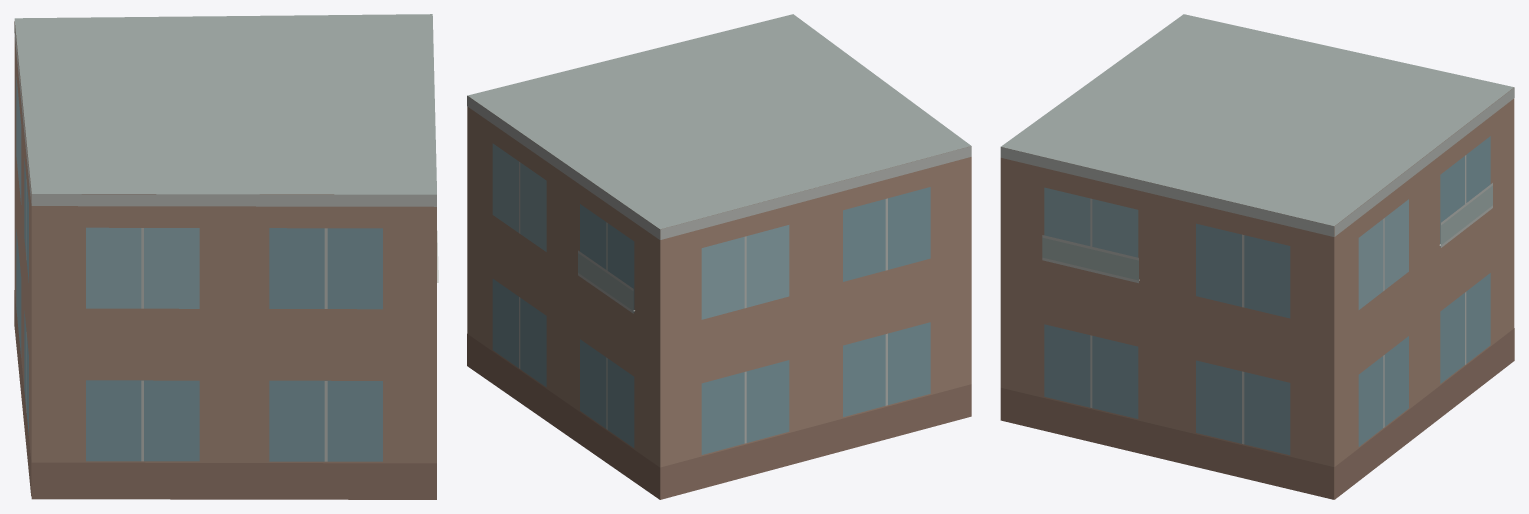
File: survey-upis-32953463.glb
3 renders of one model, left to right at view 1: azimuth 30°, elevation 25°; view 2: azimuth 150°, elevation 25°; view 3: azimuth 270°, elevation 25°, orthographic. The views are drawn at different scales.
Parts seen in each view (by area): view 1: survey-upis-32953463.tmp; view 2: survey-upis-32953463.tmp; view 3: survey-upis-32953463.tmp.
Part boxes in pixels (bbox=[...]): survey-upis-32953463.tmp: bbox=[14, 14, 438, 499]; survey-upis-32953463.tmp: bbox=[467, 14, 971, 499]; survey-upis-32953463.tmp: bbox=[1000, 14, 1514, 499].
Size of the model in its own units: 10.16 by 6.1 by 10.39.
